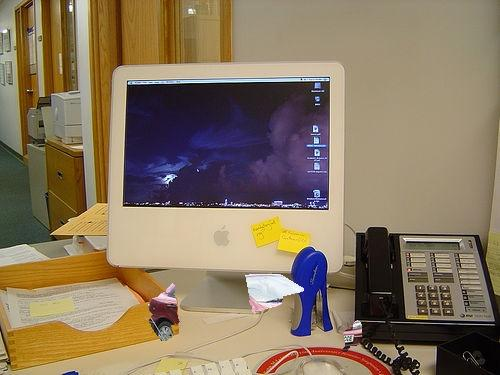tampered: (149, 275, 362, 352)
